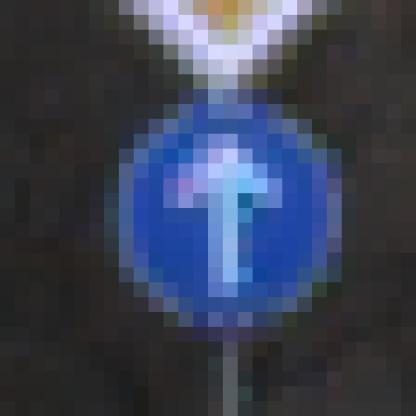AheadOnly: (90, 75, 343, 343)
